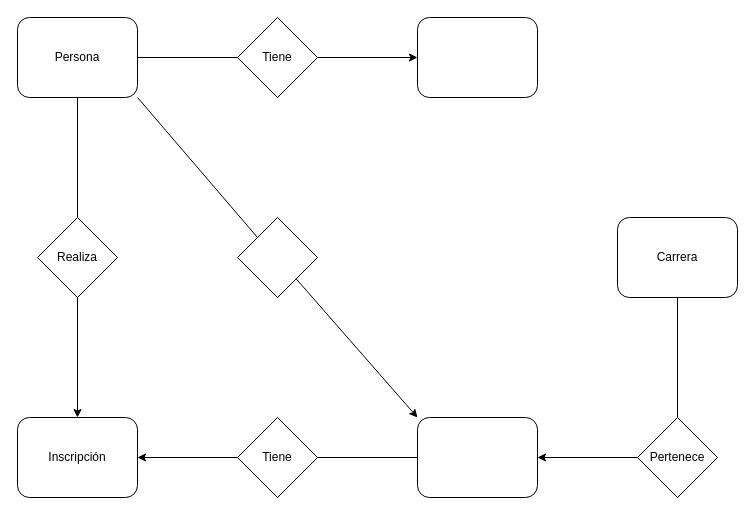
The diagram is 755 pixels wide and 515 high, and some of its shapes have lost their labels. Here are the shapes that lost their labels. From the top down, the box of each, then its label:
(416, 16, 538, 98): Sesion
(236, 216, 318, 298): Crea
(416, 416, 538, 498): Curso
